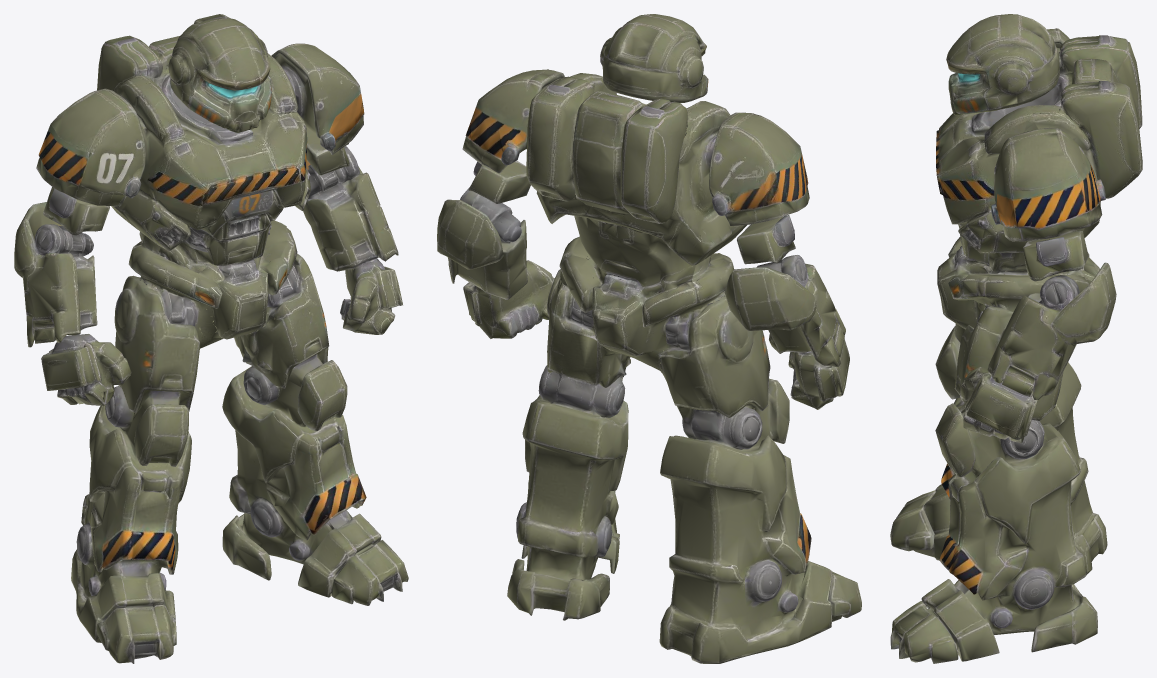
Rendered from tank.glb.
3 renders of one model, left to right at view 1: azimuth 30°, elevation 25°; view 2: azimuth 150°, elevation 25°; view 3: azimuth 270°, elevation 25°, orthographic. The views are drawn at different scales.
Parts seen in each view (by area): view 1: base-r, base-l, head, section-l, section-r, body; view 2: base-l, head, base-r, section-l, section-r, body; view 3: base-r, head, section-r, base-l, body.
Boxes of the visible parts, left/top/right/bottom form: base-r: left=222, top=257, right=408, bottom=605; base-l: left=71, top=275, right=207, bottom=663; head: left=97, top=14, right=310, bottom=251; section-l: left=14, top=88, right=145, bottom=405; section-r: left=271, top=43, right=402, bottom=334; body: left=128, top=190, right=302, bottom=348; base-l: left=659, top=291, right=861, bottom=663; head: left=526, top=14, right=746, bottom=265; base-r: left=507, top=256, right=630, bottom=620; section-l: left=709, top=112, right=849, bottom=409; section-r: left=437, top=69, right=564, bottom=338; body: left=559, top=171, right=734, bottom=371; base-r: left=890, top=305, right=1097, bottom=663; head: left=936, top=14, right=1142, bottom=253; section-r: left=960, top=128, right=1116, bottom=443; base-l: left=890, top=270, right=1107, bottom=573; body: left=937, top=224, right=1099, bottom=329.
Bounding box in the file's own units: 2.56 × 3.8 × 1.5.
21 materials, 21 textured.
